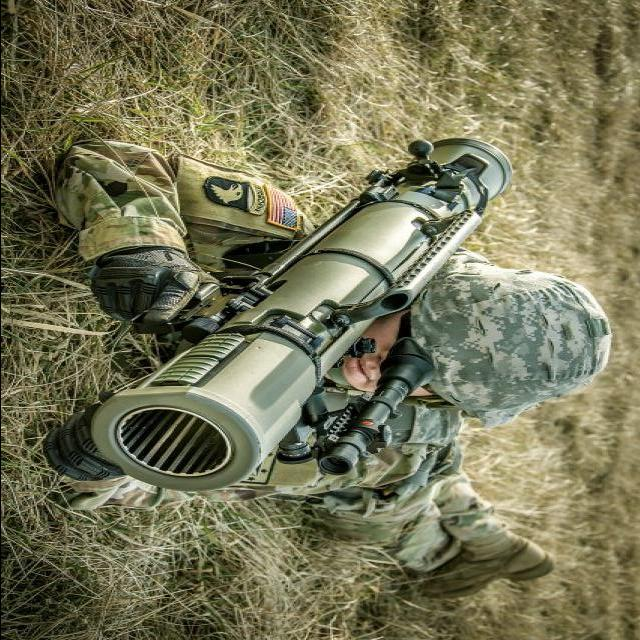rocket launcher: (103, 129, 530, 478)
